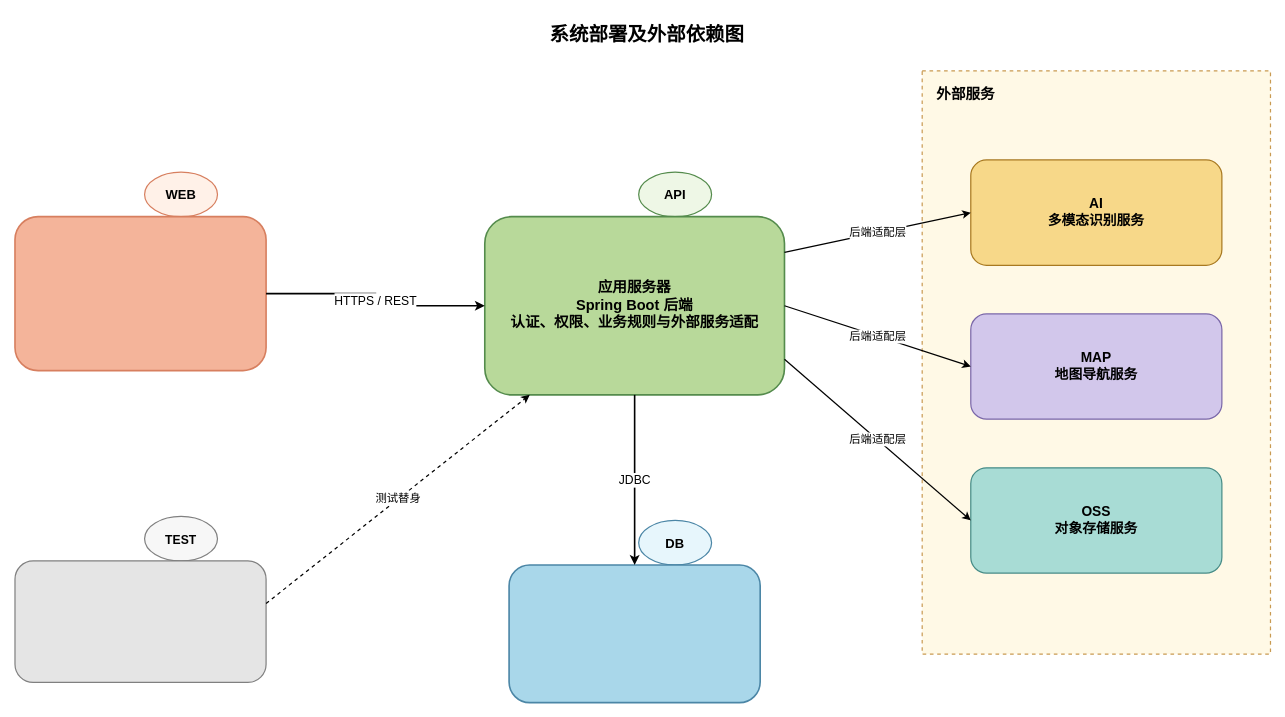
This 1285x717 diagram has some shape labels left out. Each missing label, with the centre of its shape:
"数据库服务器 MySQL 持久化业务数据" goes at pixel 634 633.
"用户设备 / 浏览器 Vue 3 前端 页面展示与用户交互" goes at pixel 140 293.
"自动化测试环境 可控 Mock / Stub" goes at pixel 140 621.
